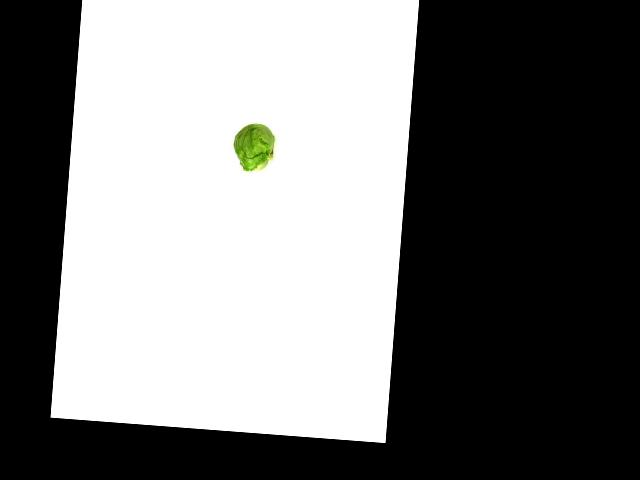lettuce: (227, 117, 276, 178)
